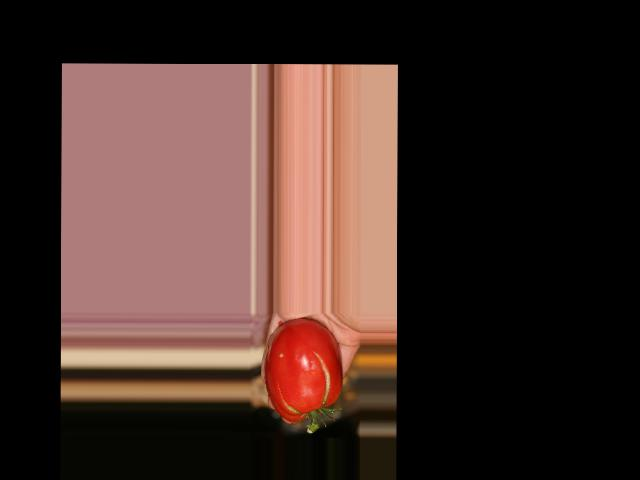tomato: (264, 318, 341, 422)
